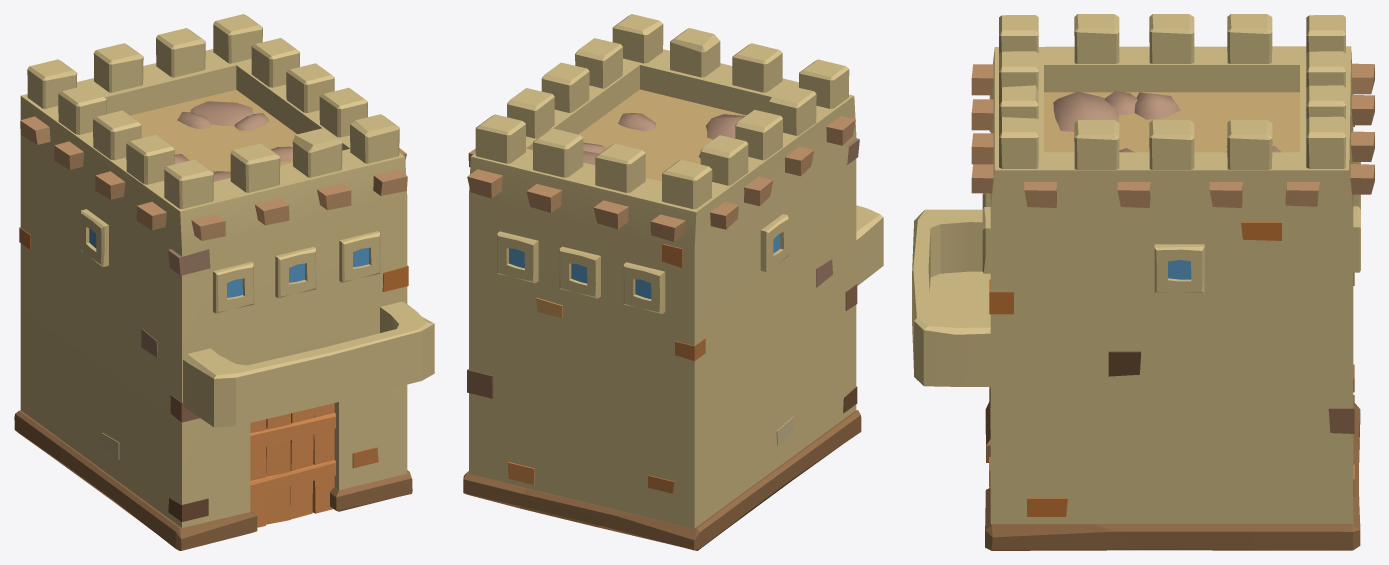
File: House_D.fbx
3 renders of one model, left to right at view 1: azimuth 30°, elevation 25°; view 2: azimuth 150°, elevation 25°; view 3: azimuth 270°, elevation 25°, orthographic. The views are drawn at different scales.
Visible parts, largest first — view 1: House_D; view 2: House_D; view 3: House_D.
Part boxes in pixels (x1,y1,x2,y2): House_D: [14, 14, 434, 550]; House_D: [463, 14, 883, 550]; House_D: [912, 14, 1374, 550].
Bounding box in the file's own units: 491 × 673 × 682.
